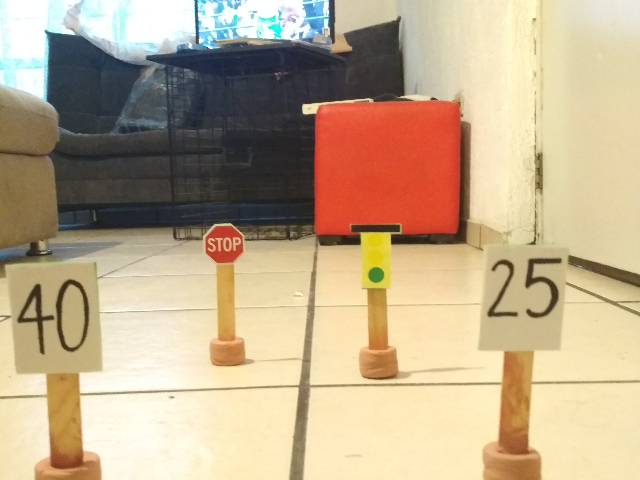Green: (348, 221, 403, 290)
Limit 25: (474, 243, 570, 355)
Limit 40: (3, 260, 105, 373)
Stop: (204, 221, 246, 267)
